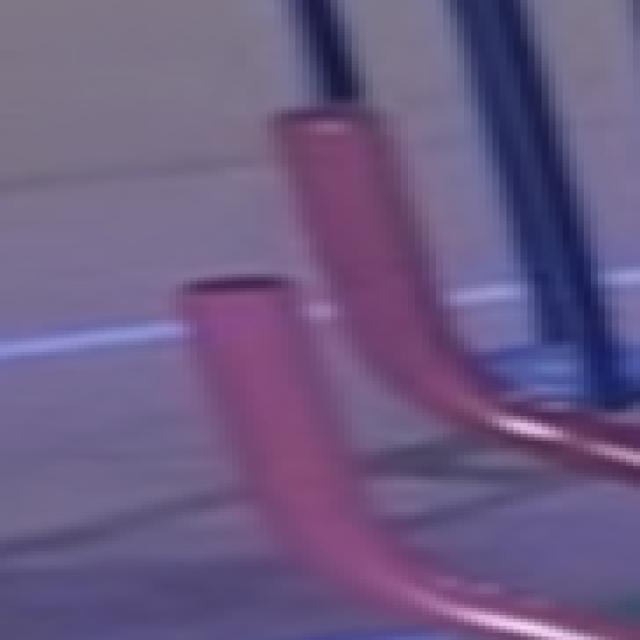Reef: (178, 275, 402, 566), (272, 106, 450, 389)
